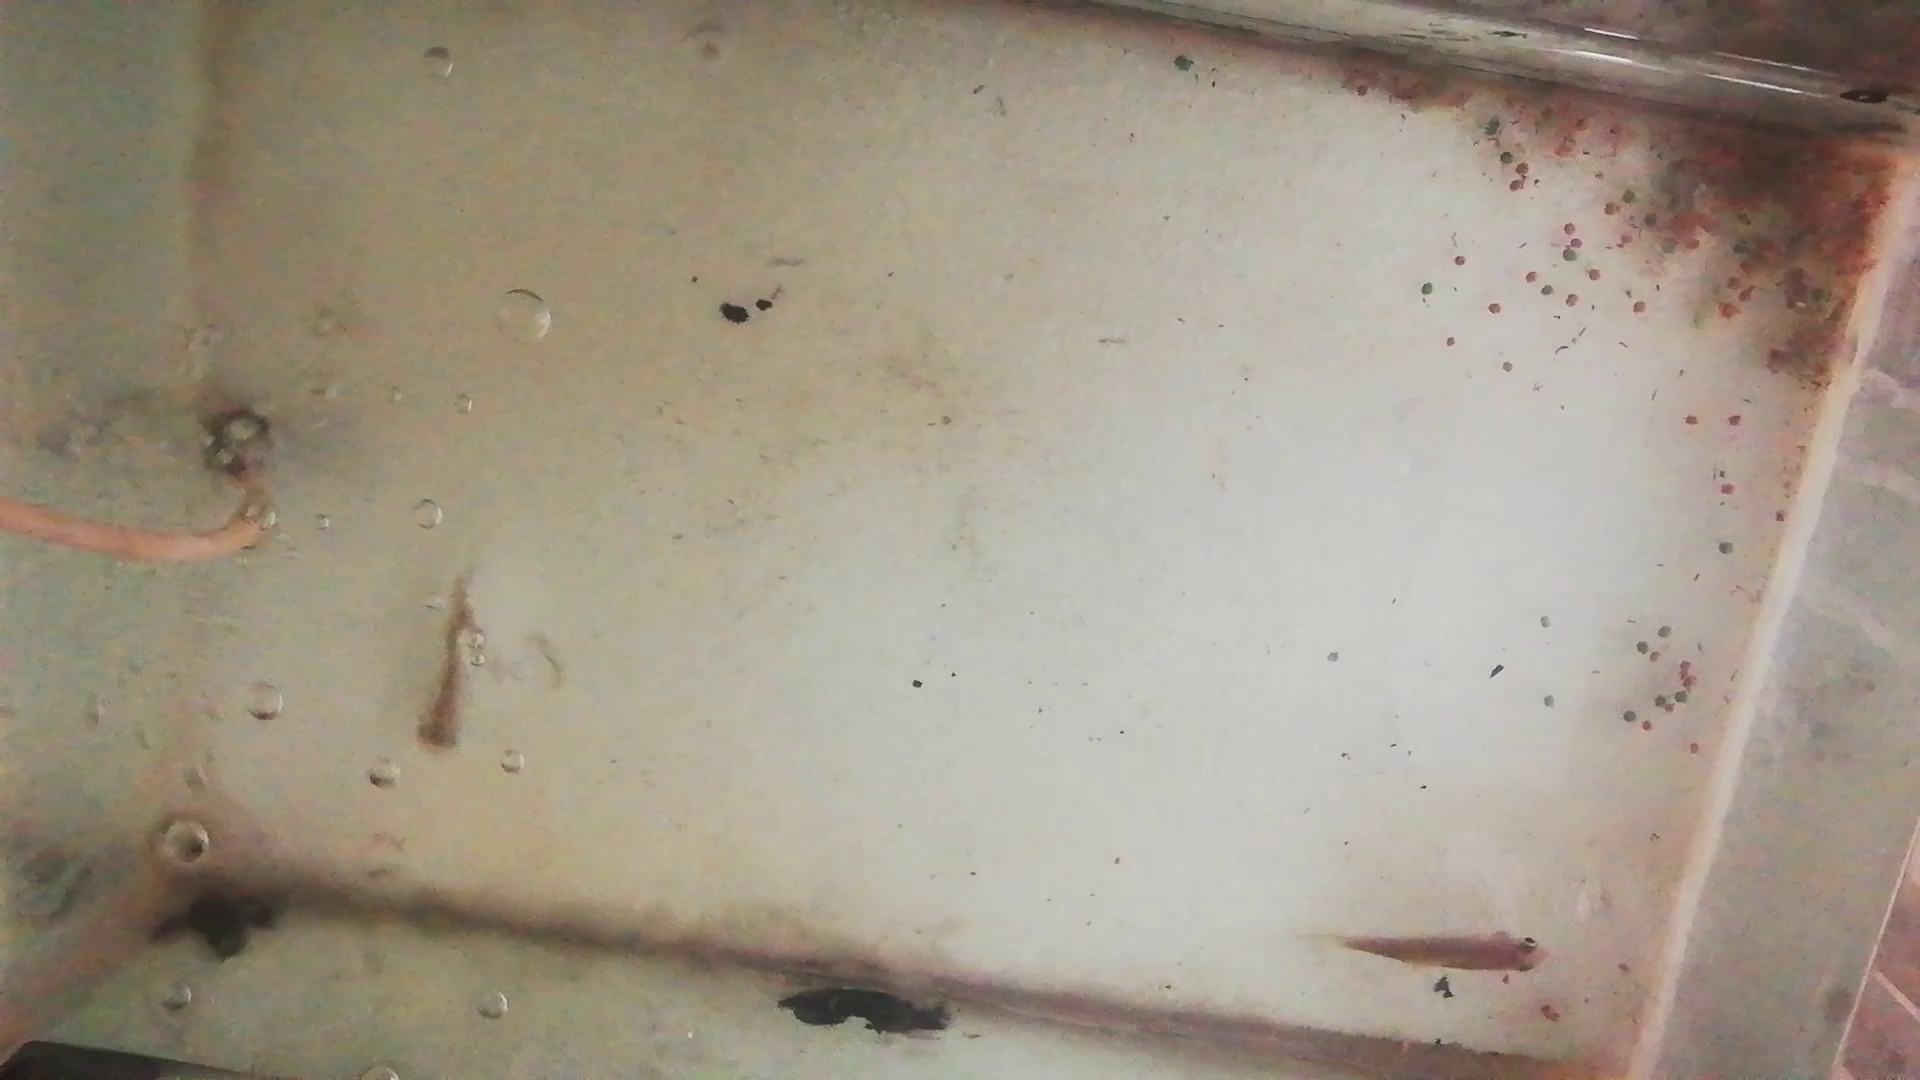fish: (1348, 916, 1544, 981), (415, 570, 477, 754)
